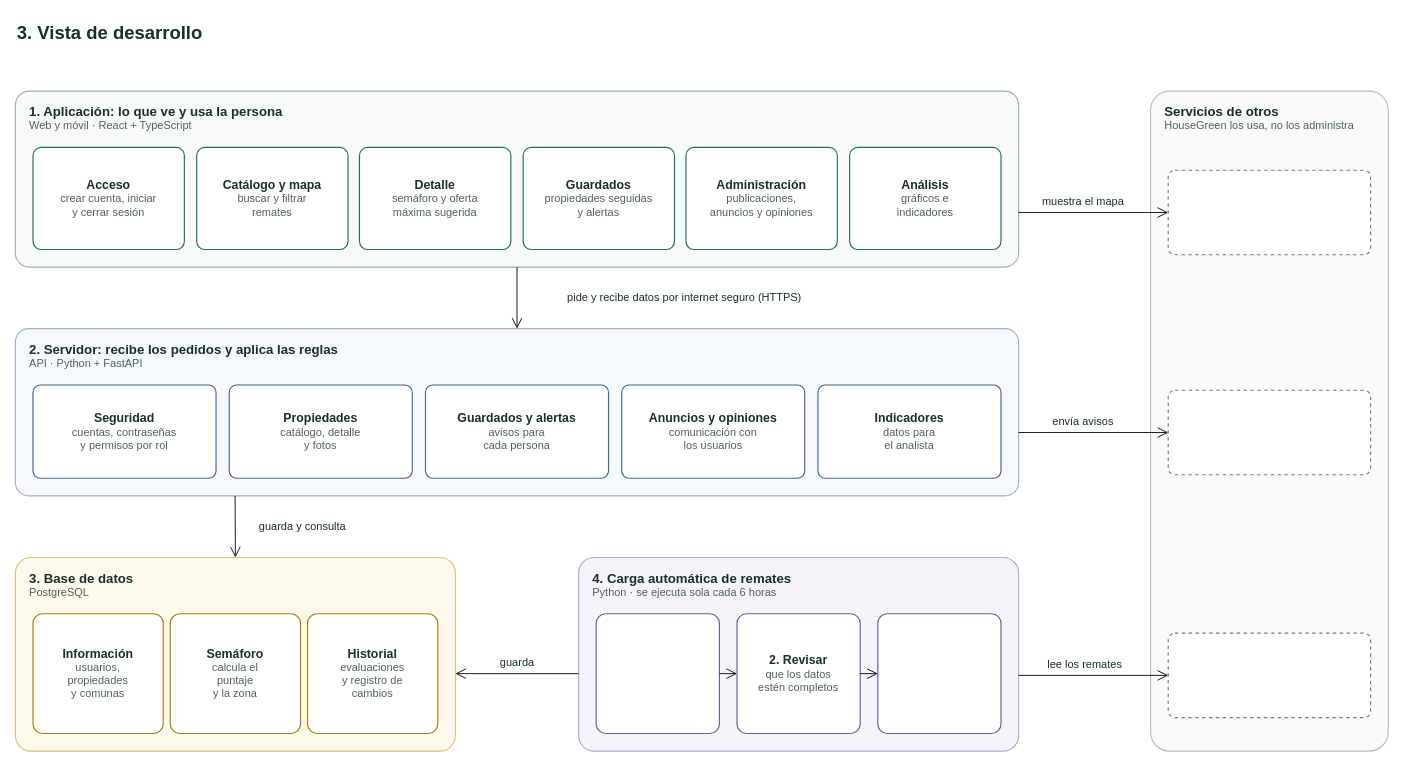
The diagram is 1404 pixels wide and 766 high, and some of its shapes have lost their labels. The centre of each missing label's shape, as x and y in pixels:
1. Leer los remates del portal: [657,673]
3. Guardar en la base de datos: [939,673]
Correo y avisos mensajes y notificaciones: [1269,432]
Mapa OpenStreetMap: [1269,212]
Portal de remates rematesinmobiliarios.cl: [1269,675]
